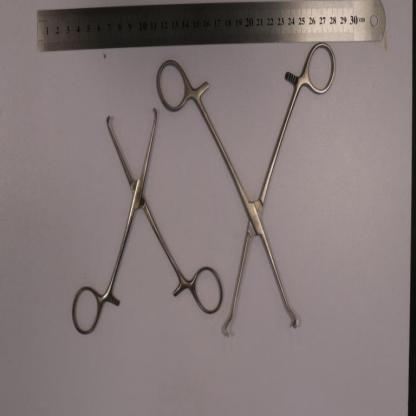8 Babcock Tissue Forceps: (155, 39, 338, 340)
Allis Tissue Forceps: (70, 106, 224, 335)
